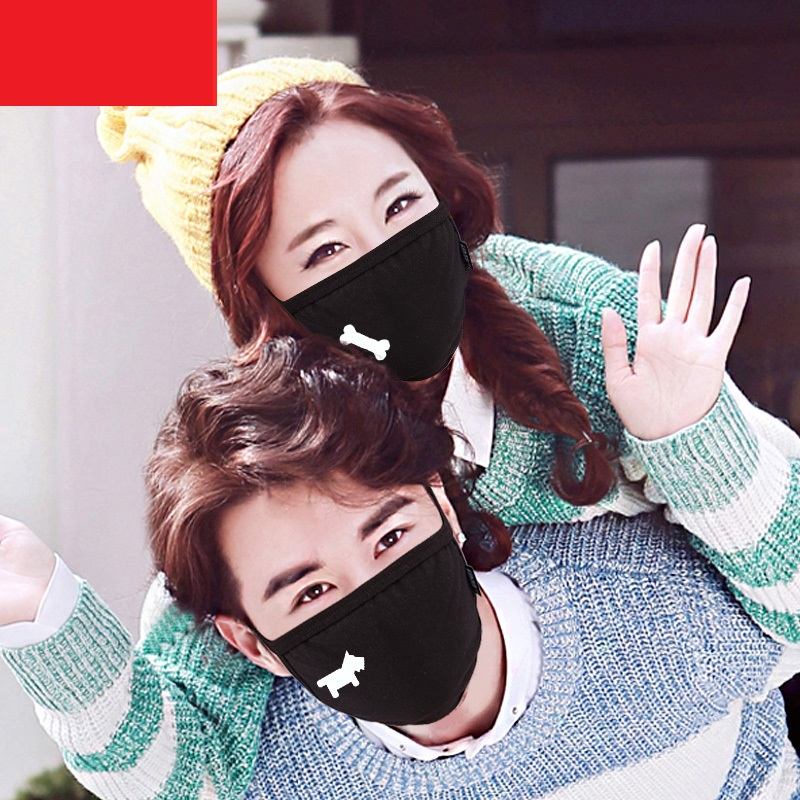face_mask: (255, 454, 466, 714), (263, 113, 443, 352)
